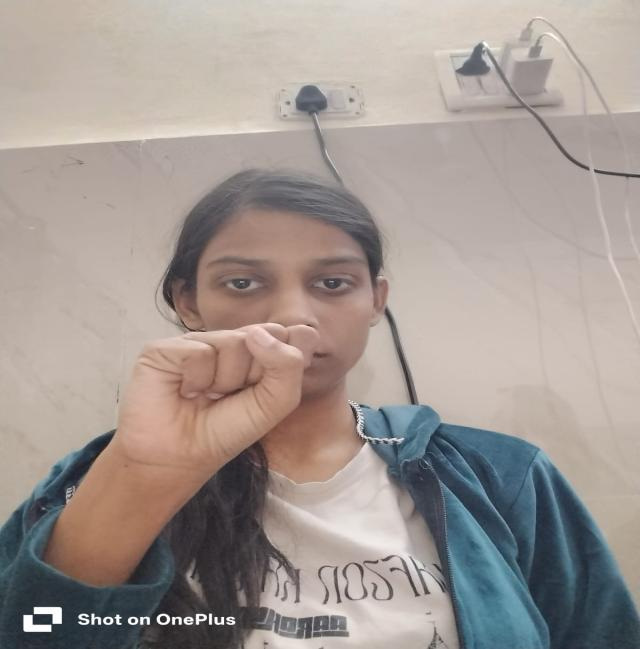Yes: (70, 307, 342, 476)
